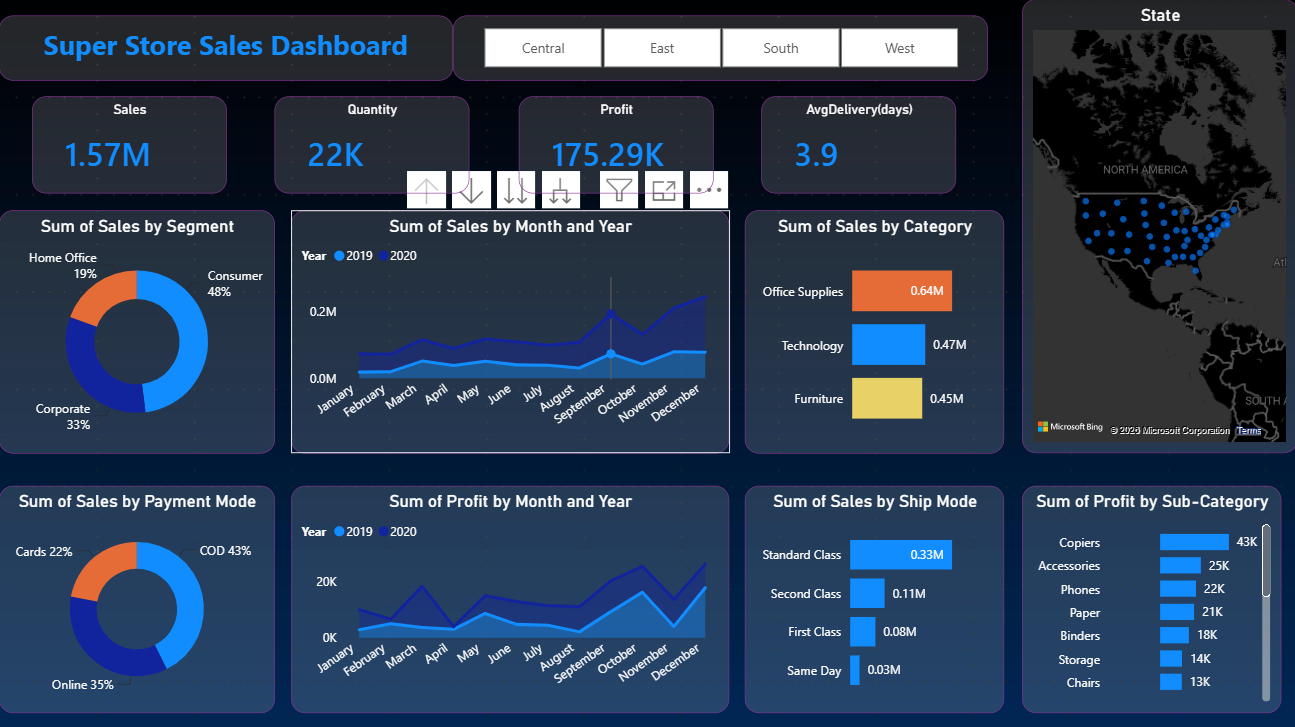

Layout of this report page (visuals, bound fields, positions):
{"tool":"powerbi","page":{"name":"Page 1","canvas":[1280,720],"ordinal":0},"visuals":[{"type":"clusteredBarChart","fields":{"Category":["SuperStore_Sales_Dataset.Category"],"Y":["Sum(SuperStore_Sales_Dataset.Sales)"]},"box":[736,208,256,240],"z":0},{"type":"clusteredBarChart","fields":{"Category":["SuperStore_Sales_Dataset.Sub-Category"],"Y":["Sum(SuperStore_Sales_Dataset.Profit)"]},"box":[1008,480,256,224],"z":1000},{"type":"clusteredBarChart","fields":{"Category":["SuperStore_Sales_Dataset.Ship Mode"],"Y":["Sum(SuperStore_Sales_Dataset.Sales)"]},"box":[736,480,256,224],"z":2000},{"type":"stackedAreaChart","fields":{"Y":["Sum(SuperStore_Sales_Dataset.Sales)"],"Category":["SuperStore_Sales_Dataset.Order Date.Variation.Date Hierarchy.Month","SuperStore_Sales_Dataset.Order Date.Variation.Date Hierarchy.Day"],"Series":["SuperStore_Sales_Dataset.Order Date.Variation.Date Hierarchy.Year"]},"box":[288,208,432,240],"z":3000},{"type":"stackedAreaChart","fields":{"Category":["SuperStore_Sales_Dataset.Order Date.Variation.Date Hierarchy.Month","SuperStore_Sales_Dataset.Order Date.Variation.Date Hierarchy.Day"],"Series":["SuperStore_Sales_Dataset.Order Date.Variation.Date Hierarchy.Year"],"Y":["Sum(SuperStore_Sales_Dataset.Profit)"]},"box":[288,480,432,224],"z":4000},{"type":"map","fields":{"Category":["SuperStore_Sales_Dataset.State"]},"box":[1008,0,272,448],"z":5000},{"type":"donutChart","fields":{"Category":["SuperStore_Sales_Dataset.Segment"],"Y":["Sum(SuperStore_Sales_Dataset.Sales)"]},"box":[0,208,272,240],"z":6000},{"type":"donutChart","fields":{"Category":["SuperStore_Sales_Dataset.Payment Mode"],"Y":["Sum(SuperStore_Sales_Dataset.Sales)"]},"box":[0,480,272,224],"z":7000},{"type":"slicer","fields":{"Values":["SuperStore_Sales_Dataset.Region"]},"box":[448,16,528,64],"z":8000},{"type":"textbox","box":[0,16,448,64],"z":9000},{"type":"cardVisual","title":"Sales","fields":{"Data":["Sum(SuperStore_Sales_Dataset.Sales)"]},"box":[32,96,192,96],"z":10000},{"type":"cardVisual","title":"Quantity","fields":{"Data":["Sum(SuperStore_Sales_Dataset.Quantity)"]},"box":[272,96,192,96],"z":11000},{"type":"cardVisual","title":"Profit","fields":{"Data":["Sum(SuperStore_Sales_Dataset.Profit)"]},"box":[512,96,192,96],"z":12000},{"type":"cardVisual","title":"AvgDelivery","fields":{"Data":["Sum(SuperStore_Sales_Dataset.AverageDelivery)"]},"box":[752,96,192,96],"z":13000}]}

Visuals, with their boxes in screenshot pixels (x1, y1, x2, y2), scaled from the page's 1280x720 canvas onto the 1295x727 screenshot:
clusteredBarChart - SuperStore_Sales_Dataset.Category x Sum(SuperStore_Sales_Dataset.Sales): bbox=(745, 210, 1004, 452)
clusteredBarChart - SuperStore_Sales_Dataset.Sub-Category x Sum(SuperStore_Sales_Dataset.Profit): bbox=(1020, 485, 1279, 711)
clusteredBarChart - SuperStore_Sales_Dataset.Ship Mode x Sum(SuperStore_Sales_Dataset.Sales): bbox=(745, 485, 1004, 711)
stackedAreaChart - Sum(SuperStore_Sales_Dataset.Sales) x SuperStore_Sales_Dataset.Order Date.Variation.Date Hierarchy.Month: bbox=(291, 210, 728, 452)
stackedAreaChart - SuperStore_Sales_Dataset.Order Date.Variation.Date Hierarchy.Month x SuperStore_Sales_Dataset.Order Date.Variation.Date Hierarchy.Day: bbox=(291, 485, 728, 711)
map - SuperStore_Sales_Dataset.State: bbox=(1020, 0, 1294, 452)
donutChart - SuperStore_Sales_Dataset.Segment x Sum(SuperStore_Sales_Dataset.Sales): bbox=(0, 210, 275, 452)
donutChart - SuperStore_Sales_Dataset.Payment Mode x Sum(SuperStore_Sales_Dataset.Sales): bbox=(0, 485, 275, 711)
slicer - SuperStore_Sales_Dataset.Region: bbox=(453, 16, 987, 81)
textbox: bbox=(0, 16, 453, 81)
"Sales" cardVisual: bbox=(32, 97, 227, 194)
"Quantity" cardVisual: bbox=(275, 97, 469, 194)
"Profit" cardVisual: bbox=(518, 97, 712, 194)
"AvgDelivery" cardVisual: bbox=(761, 97, 955, 194)
